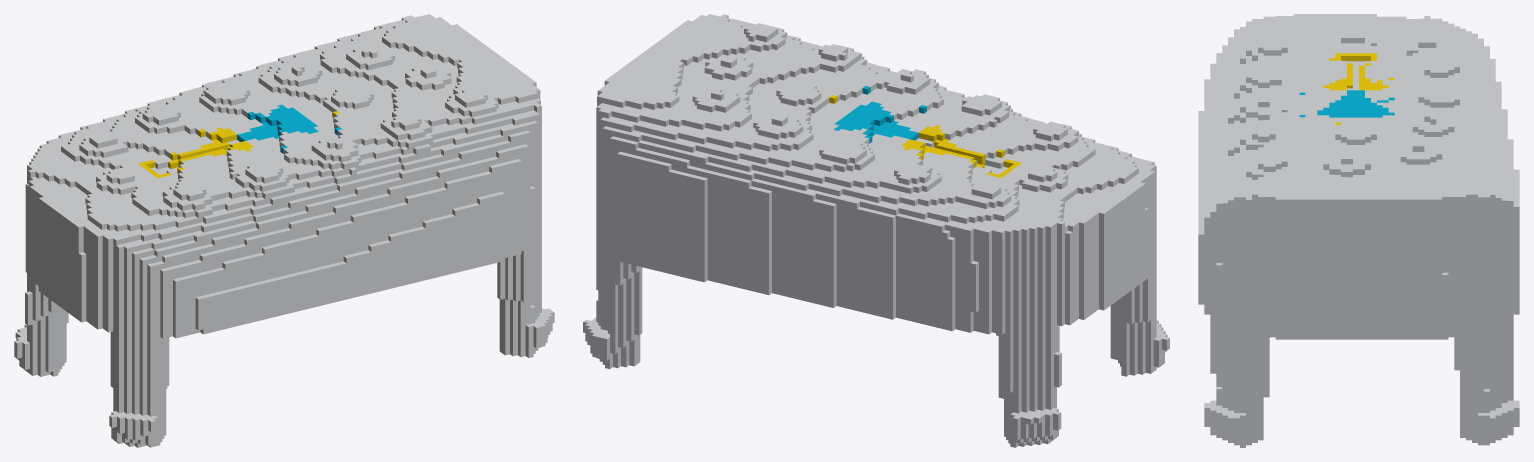
3 views of the same model, side by side, from view 1: azimuth 30°, elevation 25°; view 2: azimuth 150°, elevation 25°; view 3: azimuth 270°, elevation 25° (orthographic). The views are drawn at different scales.
Parts seen in each view (by area): view 1: =>[0:1:1:1287], =>[0:1:1:676], =>[0:1:1:311], =>[0:1:1:249], =>[0:1:1:674], =>[0:1:1:695], =>[0:1:1:675], =>[0:1:1:312], =>[0:1:1:291], =>[0:1:1:992], =>[0:1:1:696], =>[0:1:1:1346] (+37 smaller); view 2: =>[0:1:1:617], =>[0:1:1:1086], =>[0:1:1:1315], =>[0:1:1:925], =>[0:1:1:335], =>[0:1:1:311], =>[0:1:1:249], =>[0:1:1:1274], =>[0:1:1:696], =>[0:1:1:1312], =>[0:1:1:312], =>[0:1:1:1987] (+24 smaller); view 3: =>[0:1:1:711], =>[0:1:1:710], =>[0:1:1:1263], =>[0:1:1:612], =>[0:1:1:613], =>[0:1:1:249], =>[0:1:1:1521], =>[0:1:1:1644], =>[0:1:1:323], =>[0:1:1:322], =>[0:1:1:706], =>[0:1:1:1520] (+46 smaller).
Boxes of the visible parts, box(x1,y1,x2,y2) form: =>[0:1:1:1287]: box(203, 225, 504, 334); =>[0:1:1:676]: box(195, 240, 343, 297); =>[0:1:1:311]: box(38, 224, 81, 322); =>[0:1:1:249]: box(410, 14, 537, 97); =>[0:1:1:674]: box(501, 161, 521, 257); =>[0:1:1:695]: box(86, 228, 97, 329); =>[0:1:1:675]: box(175, 277, 195, 332); =>[0:1:1:312]: box(38, 198, 78, 252); =>[0:1:1:291]: box(155, 264, 160, 440); =>[0:1:1:992]: box(134, 253, 139, 414); =>[0:1:1:696]: box(29, 186, 43, 285); =>[0:1:1:1346]: box(523, 146, 528, 302); =>[0:1:1:617]: box(617, 159, 704, 282); =>[0:1:1:1086]: box(772, 191, 833, 307); =>[0:1:1:1315]: box(707, 178, 768, 295); =>[0:1:1:925]: box(836, 204, 892, 319); =>[0:1:1:335]: box(896, 226, 952, 331); =>[0:1:1:311]: box(1104, 208, 1148, 310); =>[0:1:1:249]: box(597, 14, 729, 101); =>[0:1:1:1274]: box(955, 227, 970, 332); =>[0:1:1:696]: box(1084, 213, 1098, 319); =>[0:1:1:1312]: box(610, 138, 615, 354); =>[0:1:1:312]: box(1104, 184, 1145, 240); =>[0:1:1:1987]: box(992, 230, 1002, 334); =>[0:1:1:711]: box(1275, 199, 1442, 274); =>[0:1:1:710]: box(1275, 275, 1448, 339); =>[0:1:1:1263]: box(1234, 197, 1245, 412); =>[0:1:1:612]: box(1258, 197, 1275, 337); =>[0:1:1:613]: box(1448, 197, 1465, 337); =>[0:1:1:249]: box(1252, 184, 1477, 194); =>[0:1:1:1521]: box(1495, 198, 1501, 407); =>[0:1:1:1644]: box(1507, 201, 1513, 400); =>[0:1:1:323]: box(1490, 195, 1495, 410); =>[0:1:1:322]: box(1228, 200, 1233, 410); =>[0:1:1:706]: box(1246, 200, 1251, 404); =>[0:1:1:1520]: box(1222, 203, 1227, 407).
Bounding box in the file's own units: 39.22 × 20.69 × 23.27.
